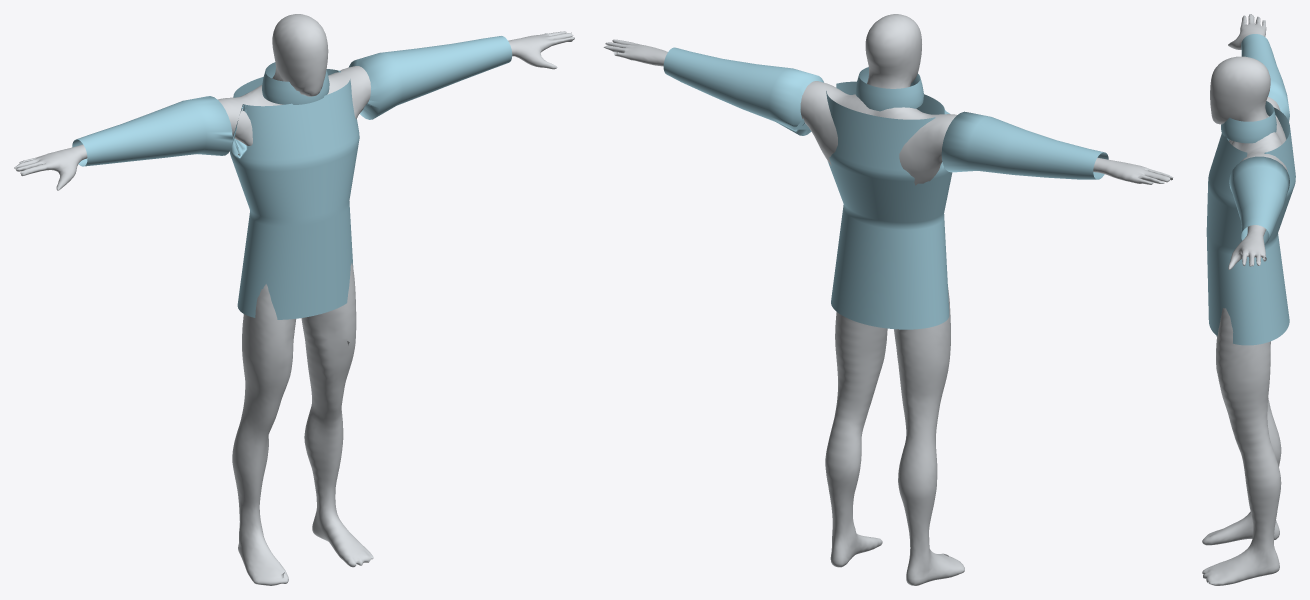
Rendered from garment-on-mannequin-v3-prototype.glb.
3 renders of one model, left to right at view 1: azimuth 30°, elevation 25°; view 2: azimuth 150°, elevation 25°; view 3: azimuth 270°, elevation 25°, orthographic. The views are drawn at different scales.
Parts seen in each view (by area): view 1: ATEL-23 shirt v3 prototype, AtelierX_mannequin_180cm; view 2: ATEL-23 shirt v3 prototype, AtelierX_mannequin_180cm; view 3: AtelierX_mannequin_180cm, ATEL-23 shirt v3 prototype.
Boxes of the visible parts, x1,y1,x2,y2 form: ATEL-23 shirt v3 prototype: (72, 36, 512, 319); AtelierX_mannequin_180cm: (14, 14, 574, 585); ATEL-23 shirt v3 prototype: (663, 47, 1108, 329); AtelierX_mannequin_180cm: (603, 14, 1173, 585); AtelierX_mannequin_180cm: (1202, 14, 1287, 585); ATEL-23 shirt v3 prototype: (1206, 34, 1295, 345).
Bounding box in the file's own units: 1.93 × 1.8 × 0.3047.
